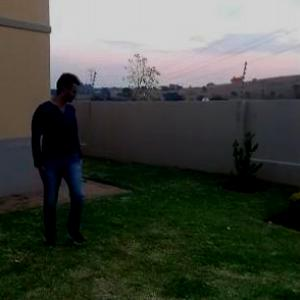follow: (28, 69, 88, 248)
